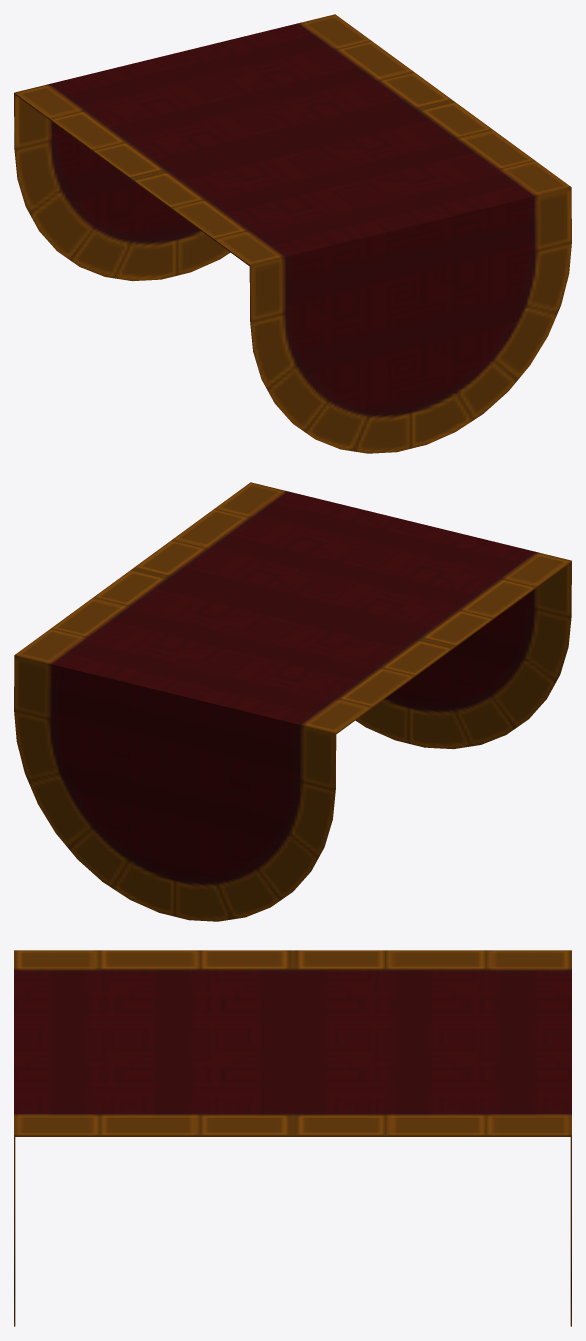
Rendered from TableCover2.FBX.
The picture shows the model from 3 angles, top to bottom: view 1: azimuth 30°, elevation 25°; view 2: azimuth 150°, elevation 25°; view 3: azimuth 270°, elevation 25°; orthographic projection. The views are drawn at different scales.
Visible parts, largest first — view 1: TableCover2; view 2: TableCover2; view 3: TableCover2.
Part boxes in pixels (x1,y1,x2,y2): TableCover2: (14, 14, 571, 453); TableCover2: (14, 482, 571, 921); TableCover2: (14, 950, 571, 1326).
Size of the model in its own units: 2.13 by 1.41 by 2.71.
